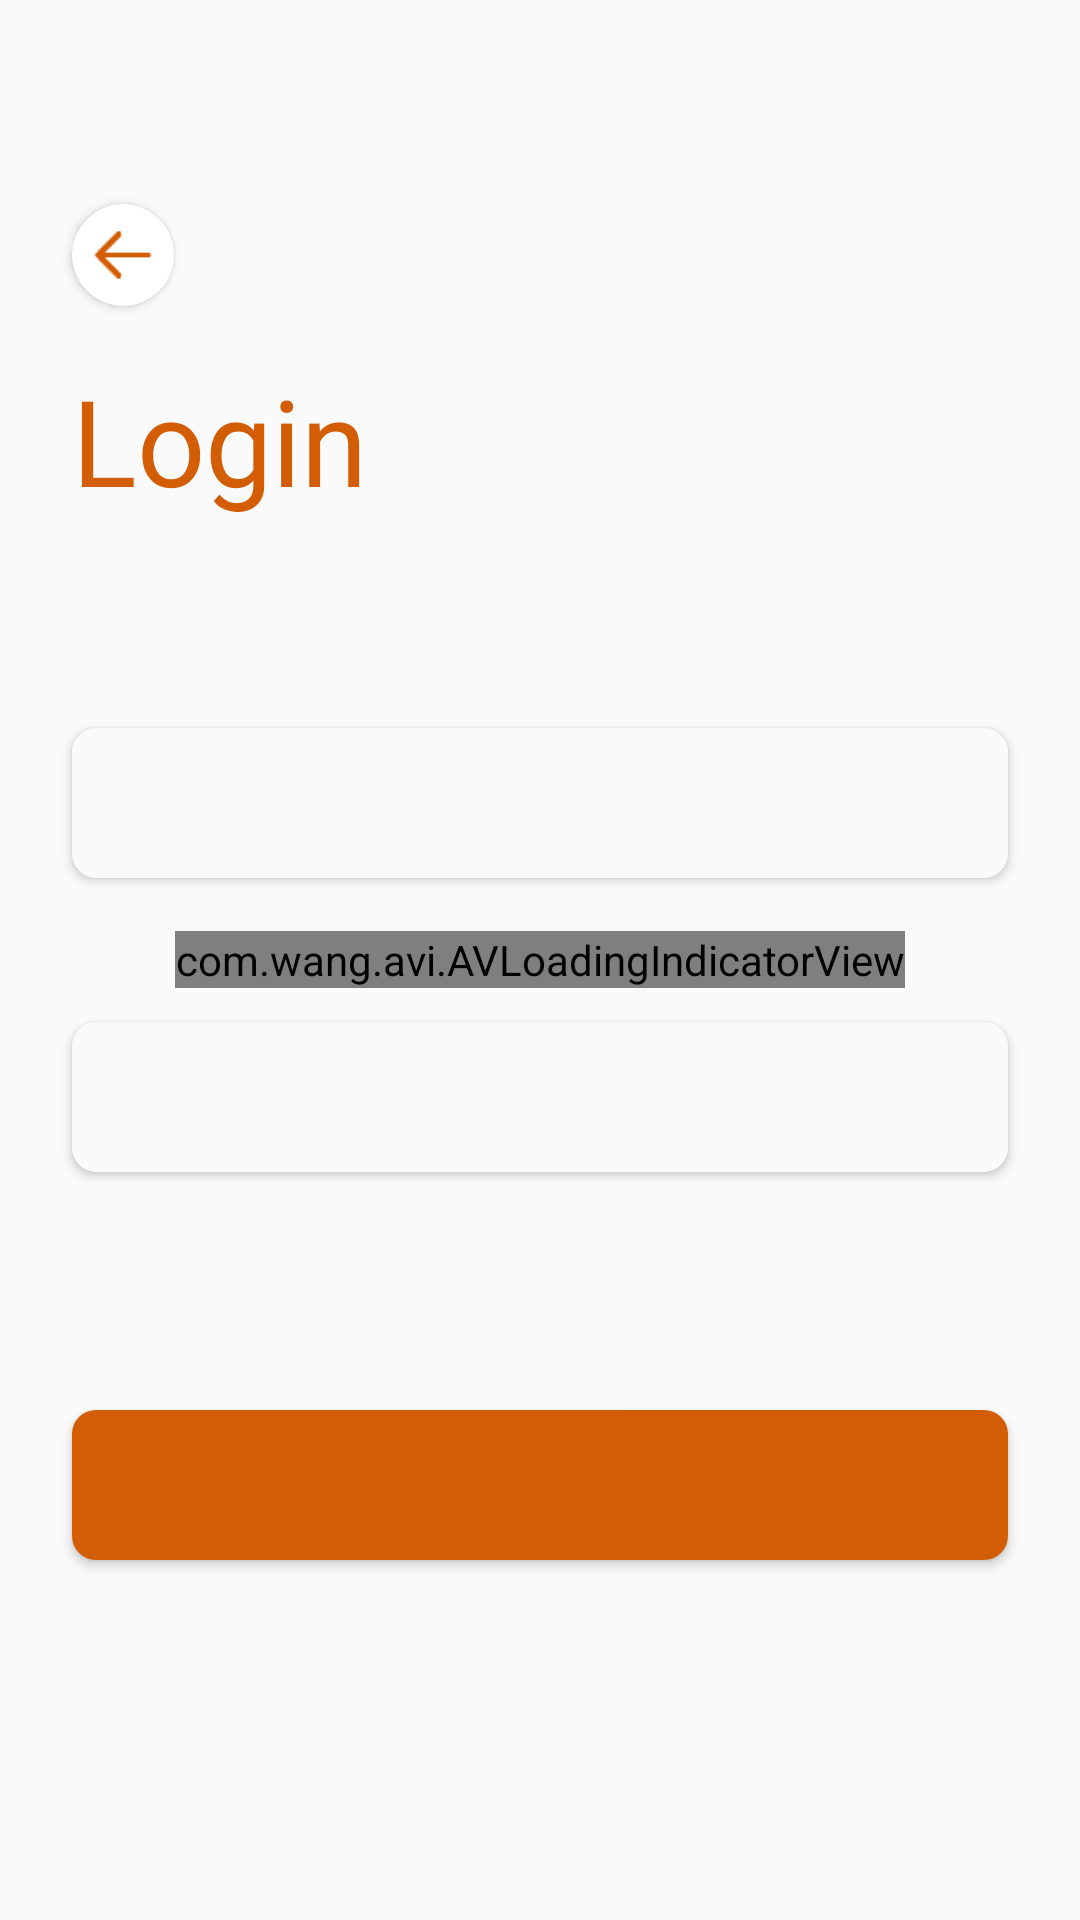

Named icons in this screenshot (1080x1920) and their bounding boxes, (x1, y1, x2, y2):
back arrow: (94, 231, 152, 279)
